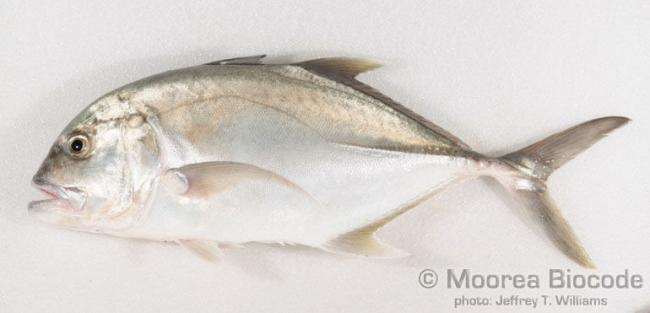fish: (29, 56, 631, 270)
